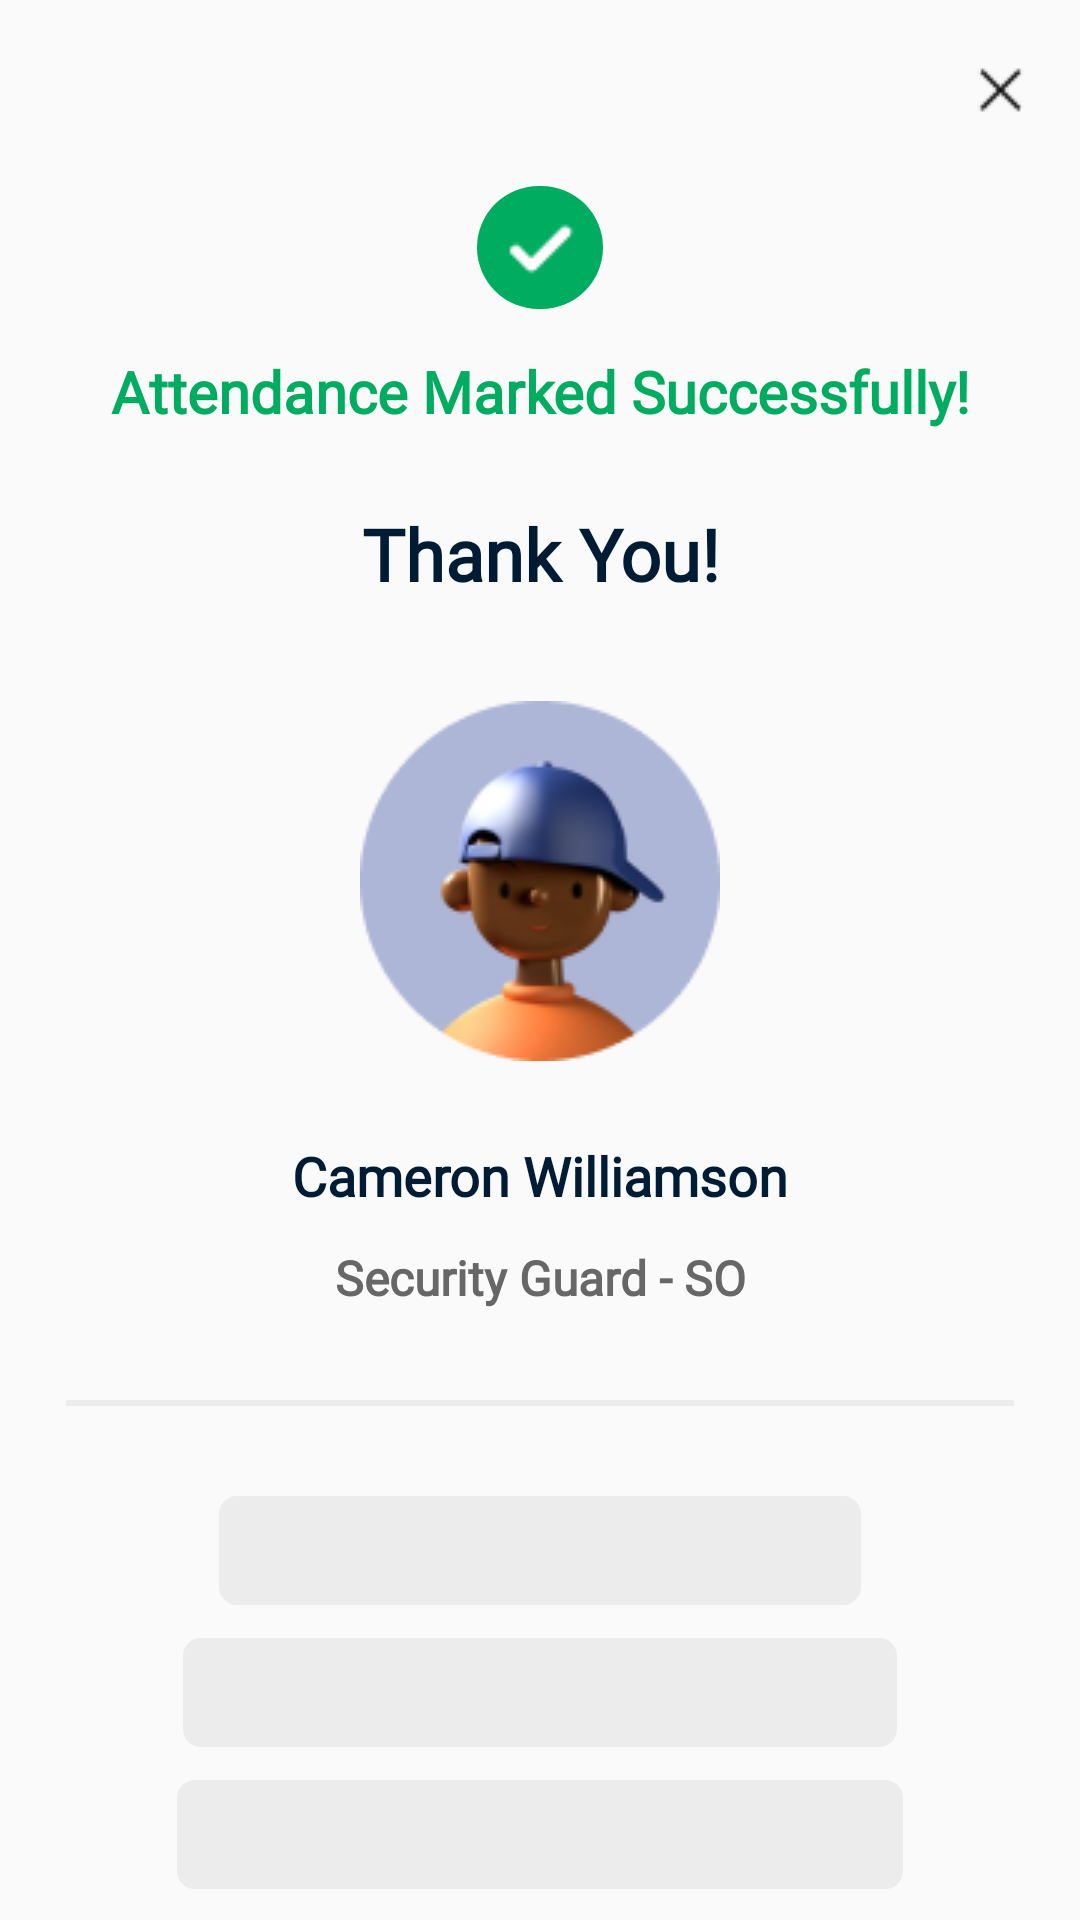

Locate icon controls on the screen. Image size 1080px x 1920px, boxes as box(x1, y1, x2, y2).
cross: box(980, 68, 1021, 112)
profile: box(360, 701, 720, 1061)
right: box(477, 186, 603, 309)
